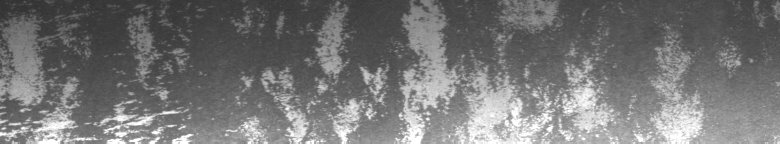kb: (4, 4, 660, 136)
